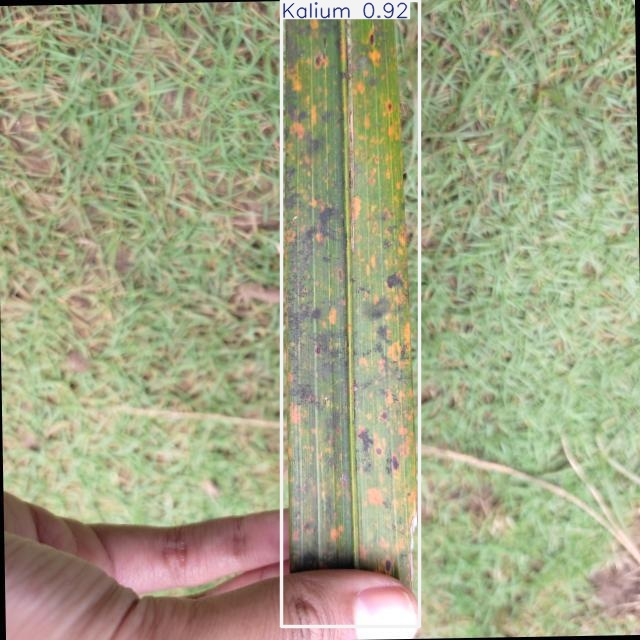Kalium: (282, 1, 420, 627)
